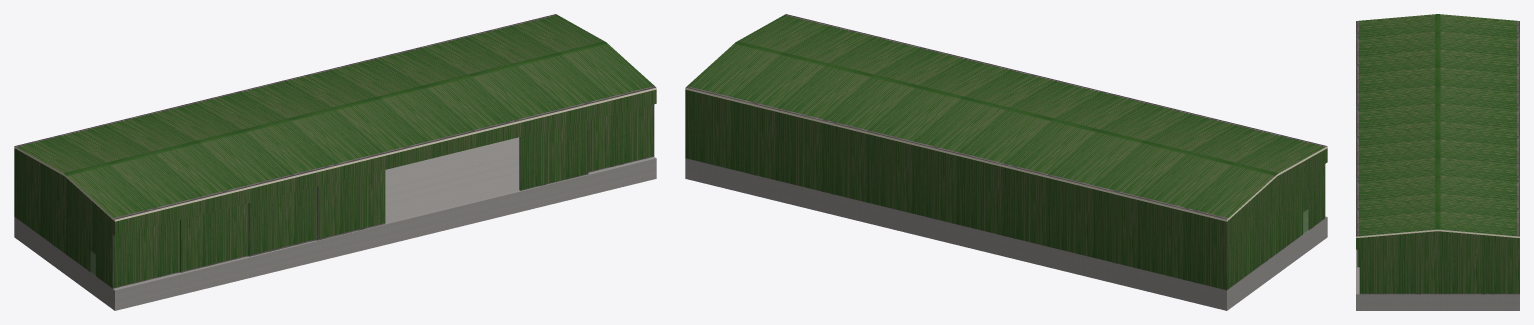
Rendered from hangar-side-door-56x18x7-cbj_LOD00.gltf.
3 renders of one model, left to right at view 1: azimuth 30°, elevation 25°; view 2: azimuth 150°, elevation 25°; view 3: azimuth 270°, elevation 25°, orthographic. The views are drawn at different scales.
Visible parts, largest first — view 1: Sketchup; view 2: Sketchup; view 3: Sketchup.
Boxes of the visible parts, x1,y1,x2,y2 form: Sketchup: (14, 14, 656, 310); Sketchup: (685, 14, 1327, 310); Sketchup: (1356, 14, 1519, 310).
Bounding box in the file's own units: 56 × 9.87 × 18.
